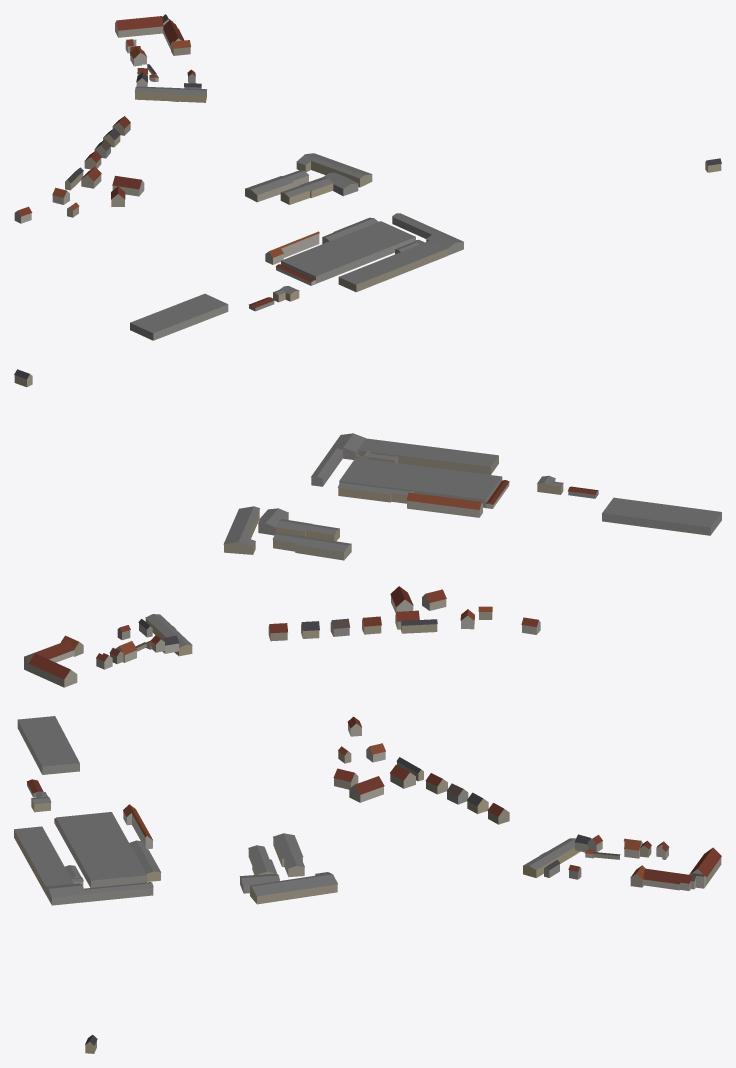
3 renders of one model, top to bottom at view 1: azimuth 30°, elevation 25°; view 2: azimuth 150°, elevation 25°; view 3: azimuth 270°, elevation 25°, orthographic. The views are drawn at different scales.
Visible parts, largest first — view 1: buildings; view 2: buildings; view 3: buildings.
Boxes of the visible parts, x1=… form: buildings: x1=14, y1=14, x2=721, y2=340; buildings: x1=14, y1=369, x2=721, y2=687; buildings: x1=14, y1=716, x2=721, y2=1053.
Size of the model in its own units: 509 by 22.13 by 459.
